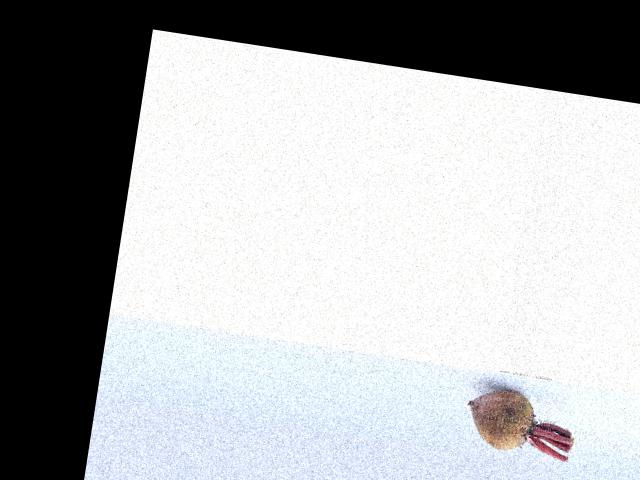beet: (463, 384, 578, 461)
